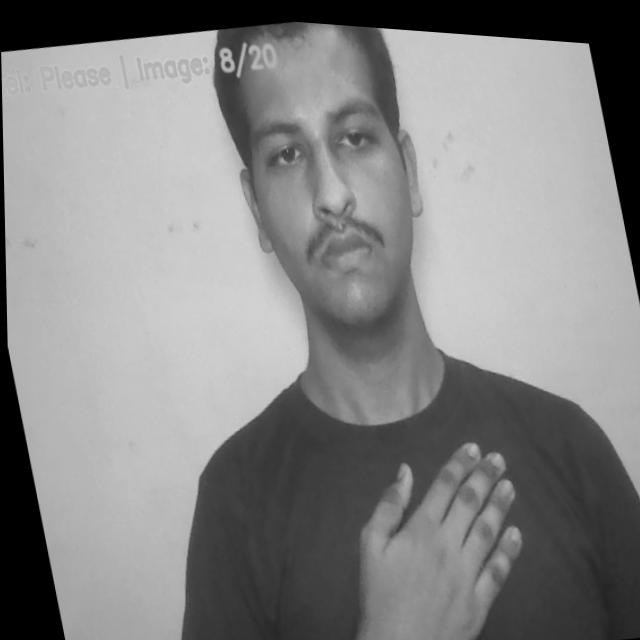Please: (292, 406, 555, 640)
